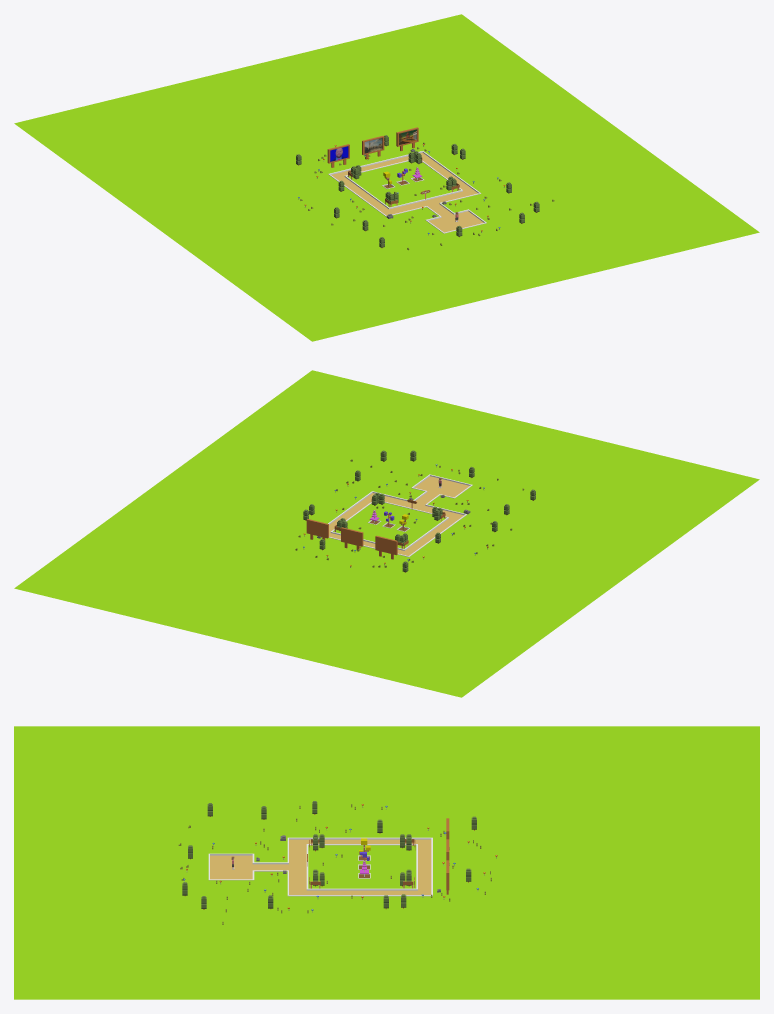
The model's file is portfolio-with-collider.glb.
The picture shows the model from 3 angles, top to bottom: view 1: azimuth 30°, elevation 25°; view 2: azimuth 150°, elevation 25°; view 3: azimuth 270°, elevation 25°; orthographic projection. The views are drawn at different scales.
Parts seen in each view (by area): view 1: Level; view 2: Level; view 3: Level.
Boxes of the visible parts, x1,y1,x2,y2 form: Level: (14,14,759,341); Level: (14,370,759,697); Level: (14,726,759,999).
Size of what is drawn, in the model's own units: 258 by 10.83 by 298.
34 materials, 3 textured.
